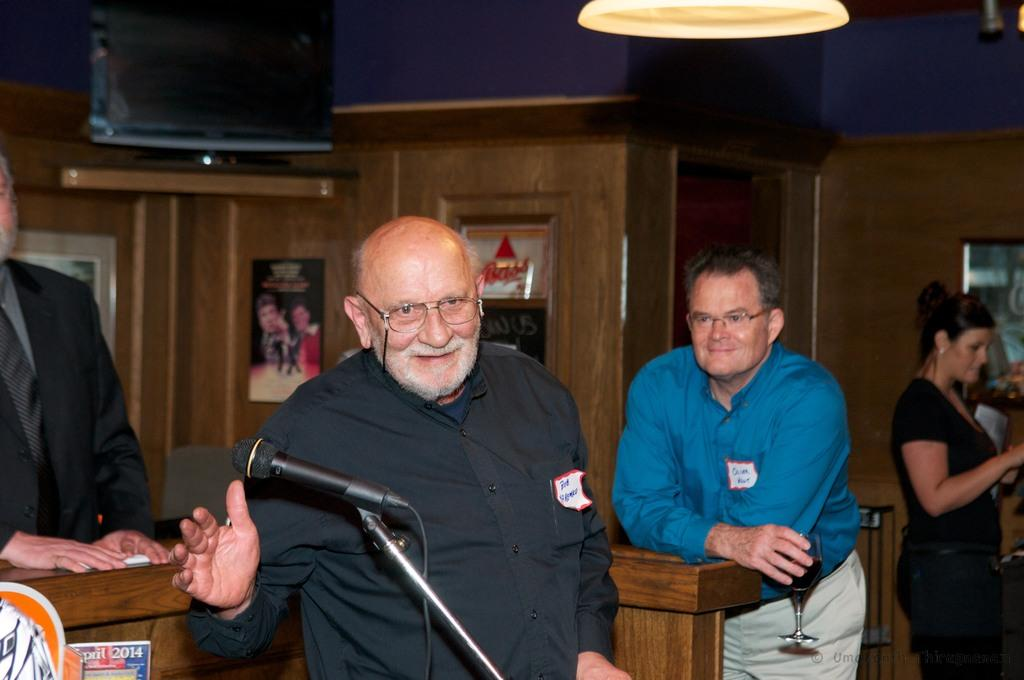Computer-monitor: (82, 0, 337, 161)
